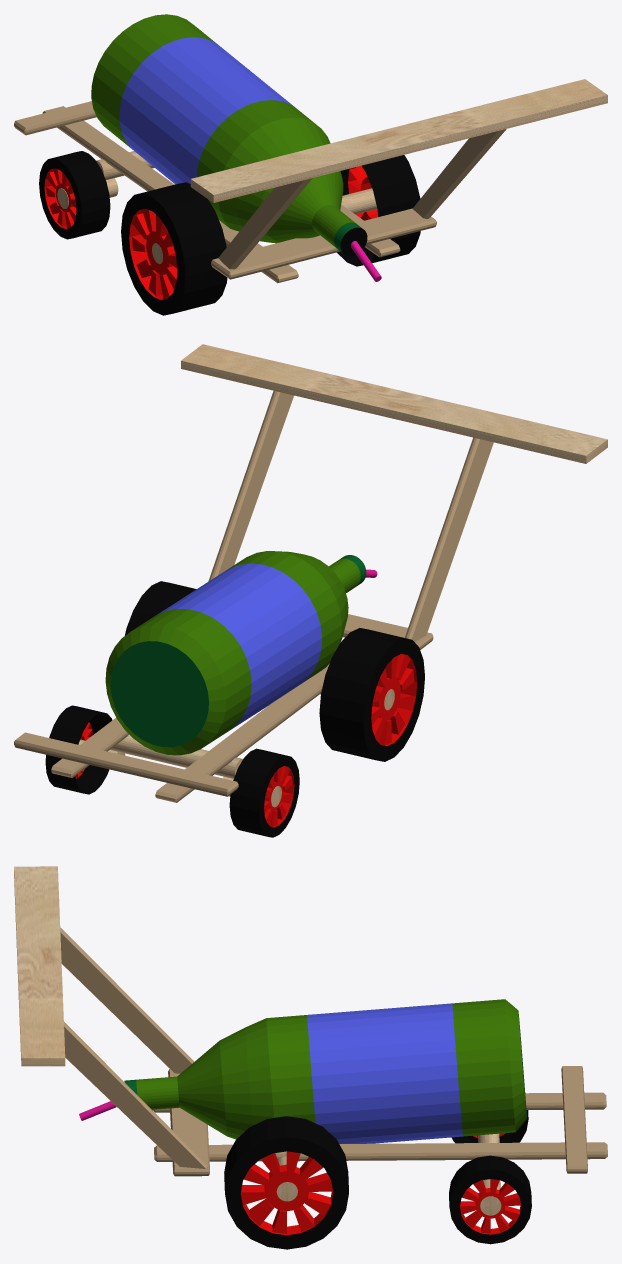
The model's file is quimic_car.glb.
3 views of the same model, one above another, from view 1: azimuth 30°, elevation 25°; view 2: azimuth 150°, elevation 25°; view 3: azimuth 270°, elevation 25° (orthographic). The views are drawn at different scales.
Parts seen in each view (by area): view 1: Cilindro.010; view 2: Cilindro.010; view 3: Cilindro.010.
Boxes of the visible parts, x1=… form: Cilindro.010: x1=14, y1=14, x2=607, y2=315; Cilindro.010: x1=14, y1=344, x2=607, y2=837; Cilindro.010: x1=14, y1=866, x2=607, y2=1249.
Bounding box in the file's own units: 0.3474 × 0.1981 × 0.454.
Materials: 8 (1 with a texture image).
